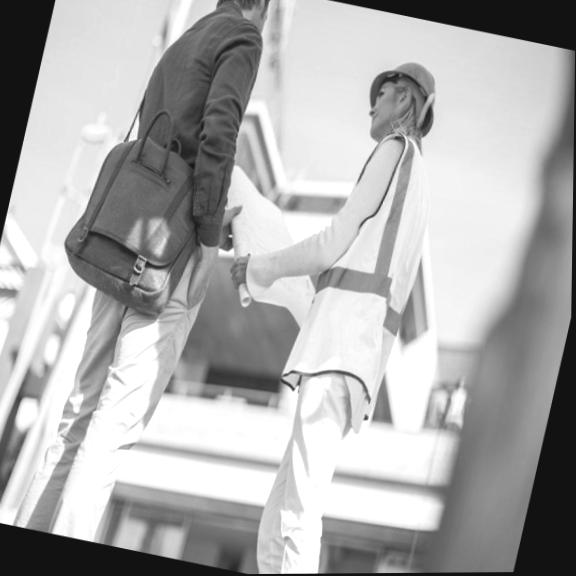no_safety_vest: (87, 4, 275, 300)
safety_vest: (260, 123, 446, 412)
